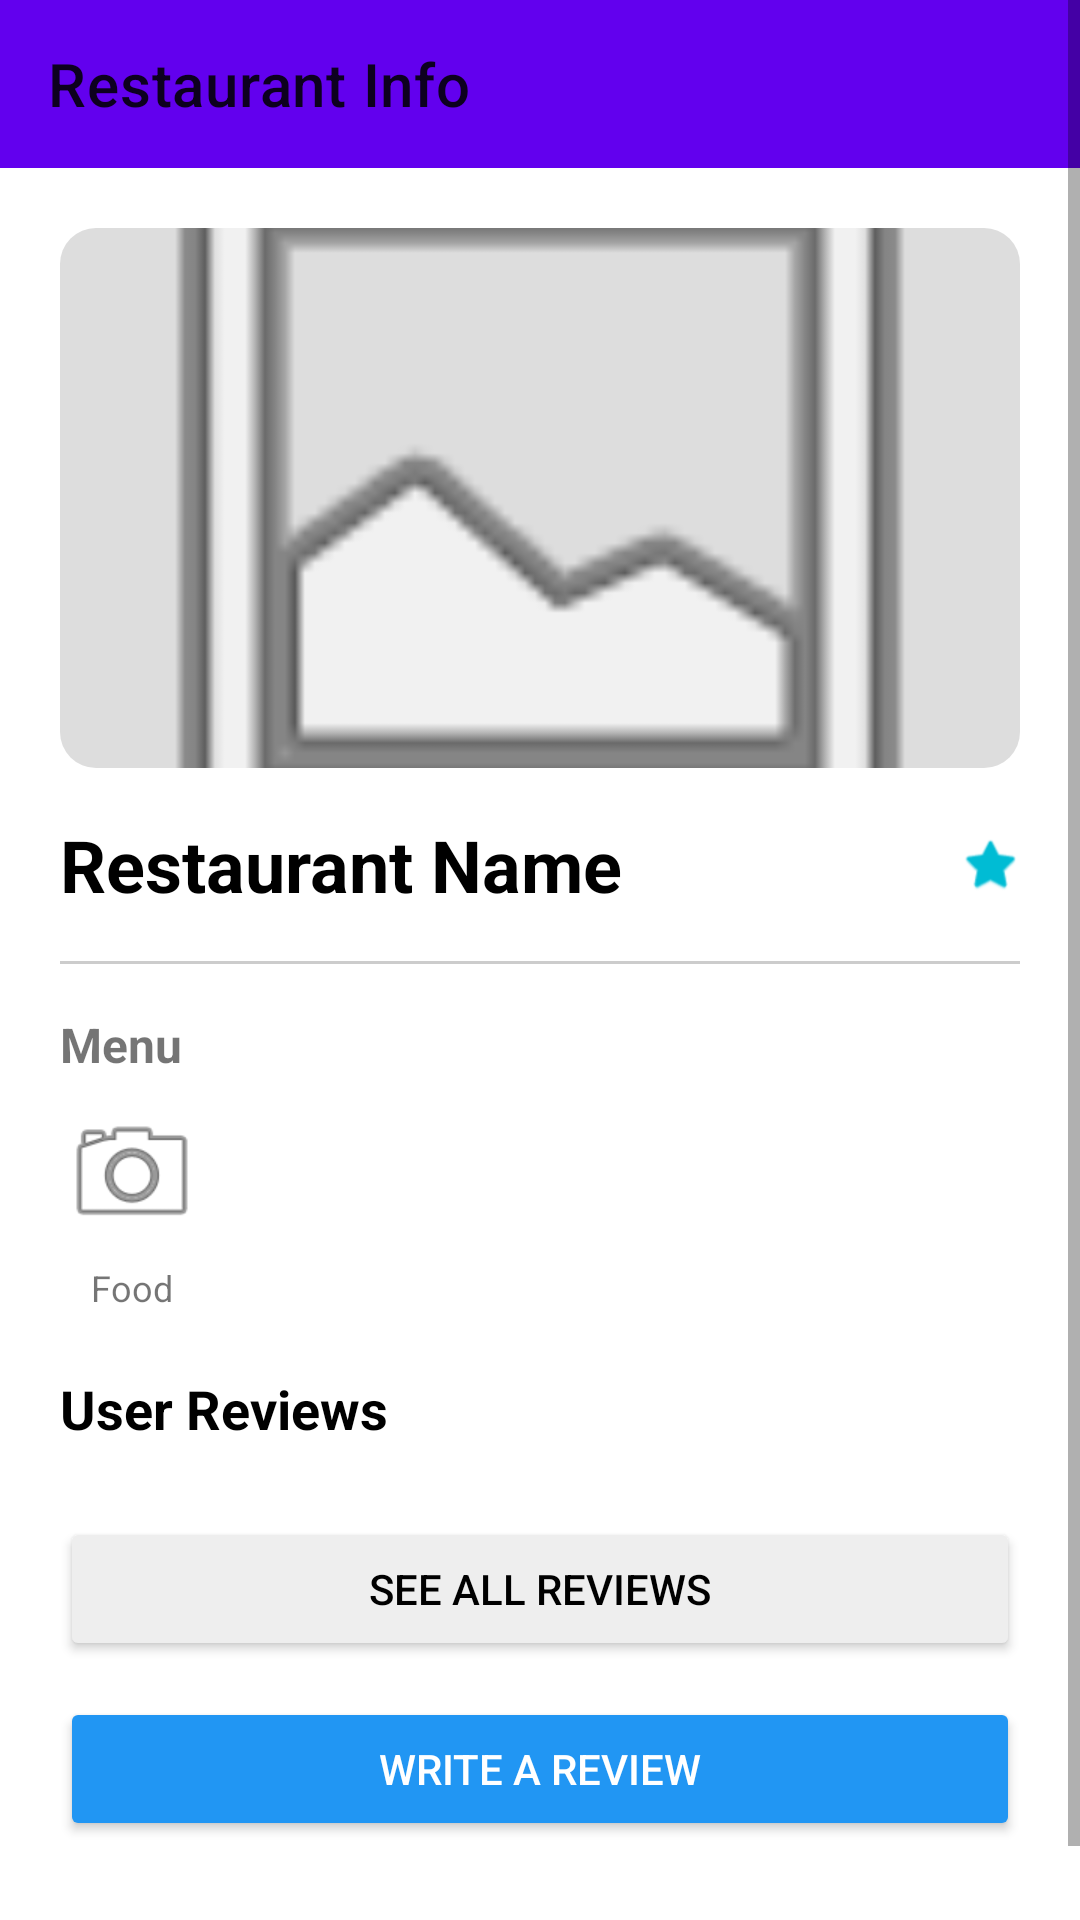

Icon click points for this 1080w x 1920h phone screenshot, format point (x, y):
camera: point (132, 1170)
star on: point (990, 864)
